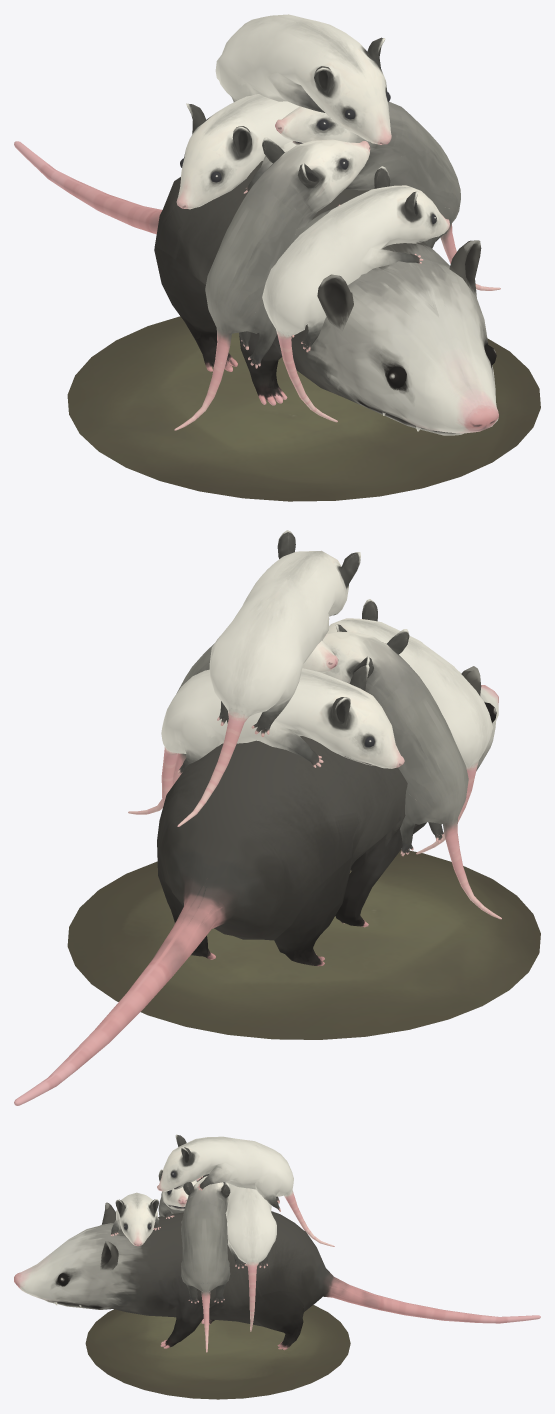
File: asset.gltf
3 views of the same model, one above another, from view 1: azimuth 30°, elevation 25°; view 2: azimuth 150°, elevation 25°; view 3: azimuth 270°, elevation 25° (orthographic). The views are drawn at different scales.
Visible parts, largest first — view 1: ground, Cube.004, Cube.019, Cube.005, Cube.022, Cube.017, Cube.009; view 2: ground, Cube.004, Cube.022, Cube.009, Cube.019, Cube.005, Cube.017; view 3: Cube.004, ground, Cube.022, Cube.017, Cube.009, Cube.005, Cube.019.
Boxes of the visible parts, x1,y1,x2,y2 form: ground: [67, 316, 540, 501]; Cube.004: [14, 141, 498, 435]; Cube.019: [174, 137, 370, 430]; Cube.005: [262, 166, 449, 422]; Cube.022: [215, 14, 391, 144]; Cube.017: [275, 101, 500, 290]; Cube.009: [176, 94, 299, 209]; ground: [67, 849, 540, 1039]; Cube.004: [14, 666, 498, 1105]; Cube.022: [177, 530, 360, 826]; Cube.009: [161, 665, 404, 806]; Cube.019: [323, 629, 501, 919]; Cube.005: [327, 599, 493, 854]; Cube.017: [128, 640, 338, 814]; Cube.004: [14, 1202, 540, 1350]; ground: [85, 1305, 350, 1399]; Cube.022: [157, 1134, 334, 1246]; Cube.017: [181, 1176, 230, 1352]; Cube.009: [224, 1182, 276, 1331]; Cube.005: [110, 1192, 160, 1246]; Cube.019: [158, 1169, 202, 1218].
Bounding box in the file's own units: 2.37 × 2.07 × 4.71.
8 materials, 7 textured.
